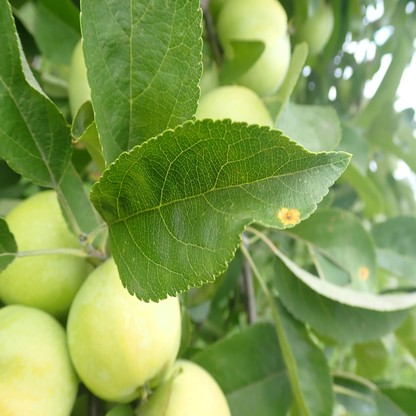rust: (278, 208, 301, 226), (357, 267, 370, 281)
